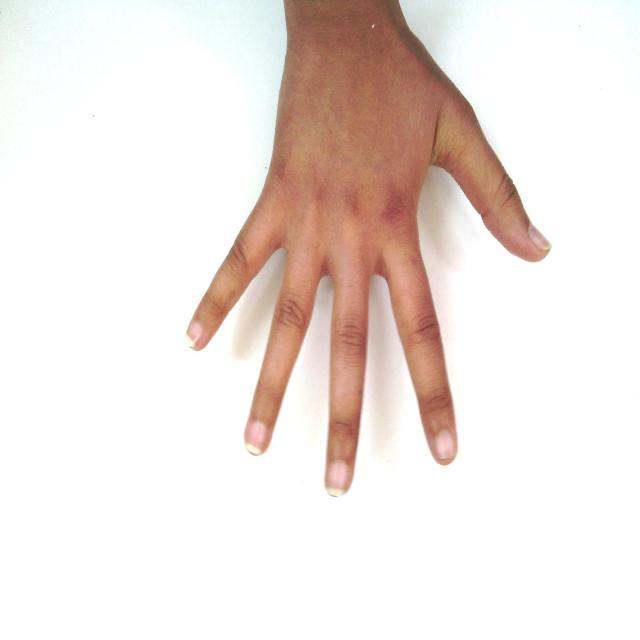Fingernail: (327, 462, 348, 495), (247, 422, 267, 453), (435, 431, 454, 460), (529, 224, 550, 249), (187, 325, 201, 345)
